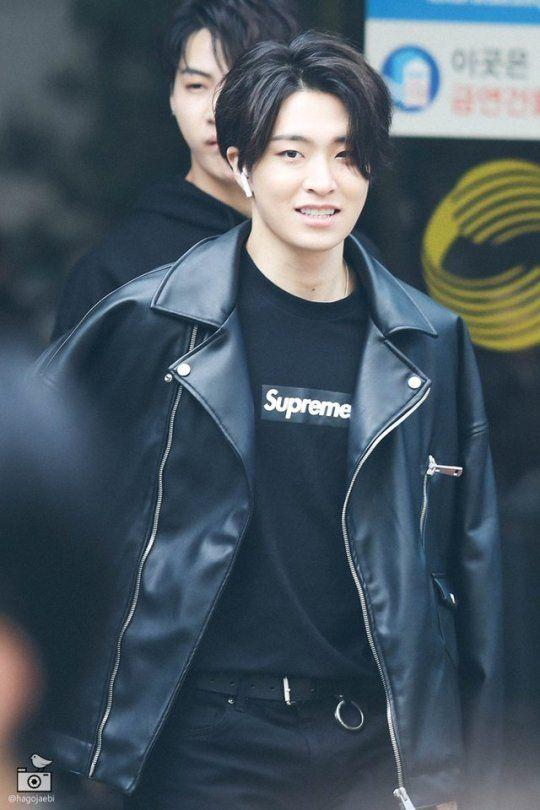earphone: (228, 160, 254, 199)
